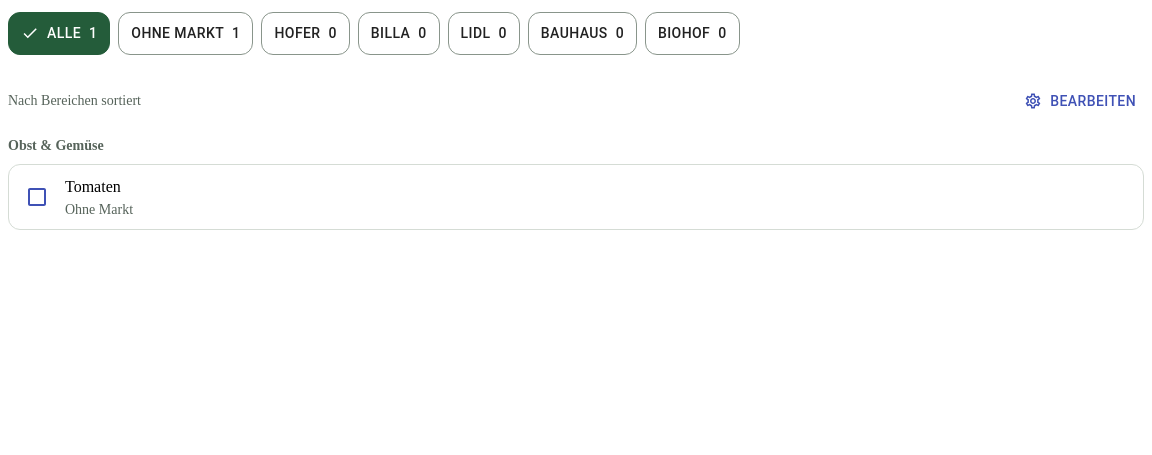
Test: keeps keyboard focus on the category field when its row moves to another section
Click the button "Bearbeiten" at (1080, 101), box [1016,82,1144,119]
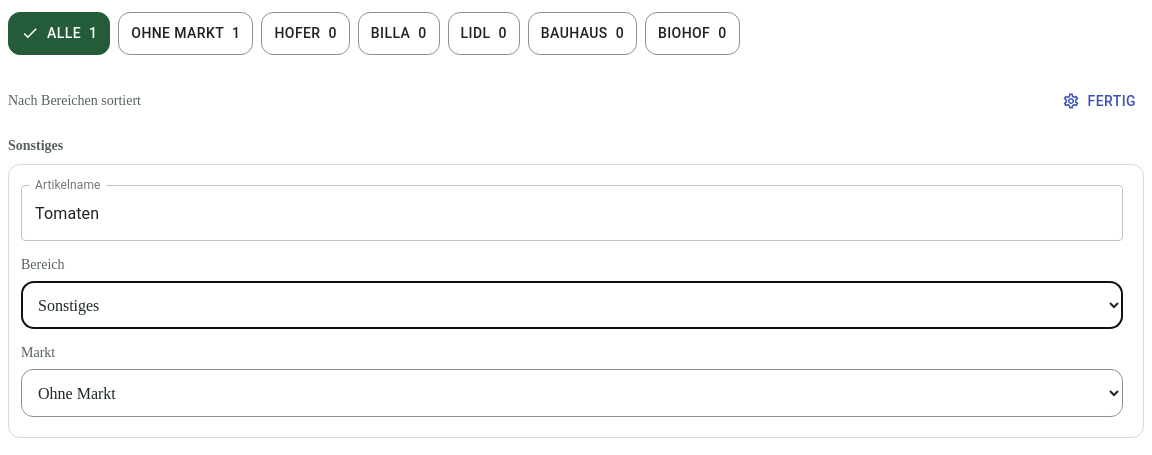
expect the dropdown with id "grocery-area-tomato" shows "Sonstiges": met, box [21,281,1123,329]
